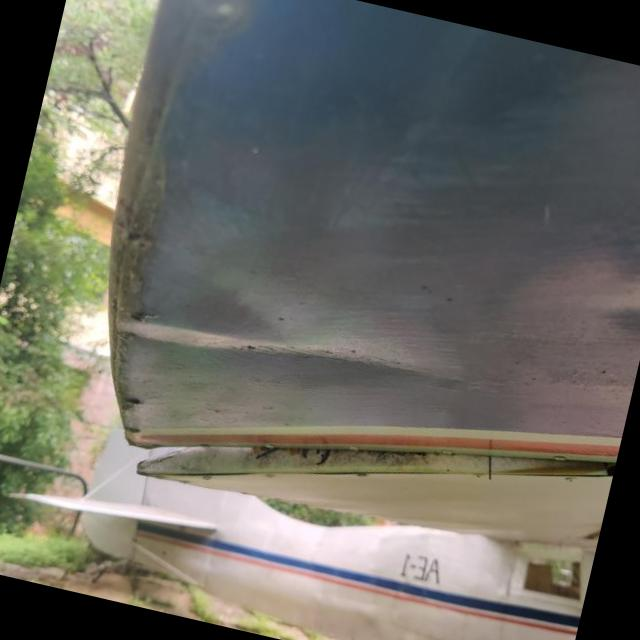Dent: (108, 235, 463, 428)
